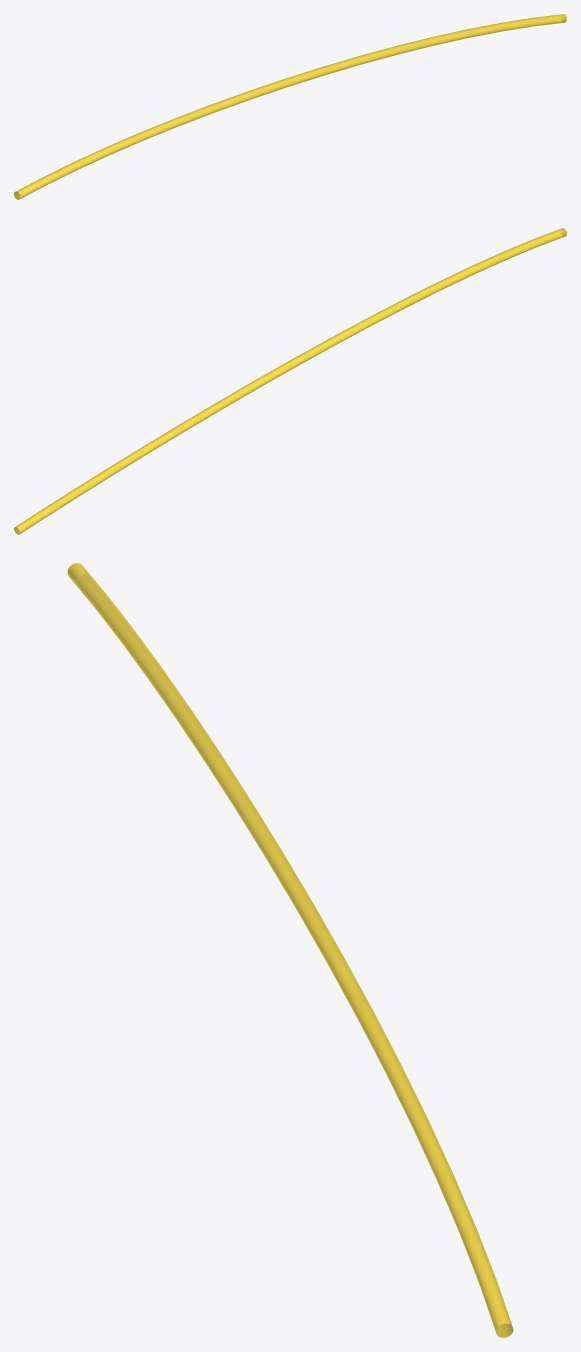
File: Event_31209032_track_44.fbx
3 renders of one model, top to bottom at view 1: azimuth 30°, elevation 25°; view 2: azimuth 210°, elevation 25°; view 3: azimuth 270°, elevation 25°, orthographic. The views are drawn at different scales.
Visible parts, largest first — view 1: Model; view 2: Model; view 3: Model.
Part boxes in pixels (x1,y1,x2,y2): Model: (14,14,566,199); Model: (14,228,566,534); Model: (67,563,513,1337).
Size of the model in its own units: 3.42 by 0.3583 by 1.01.
